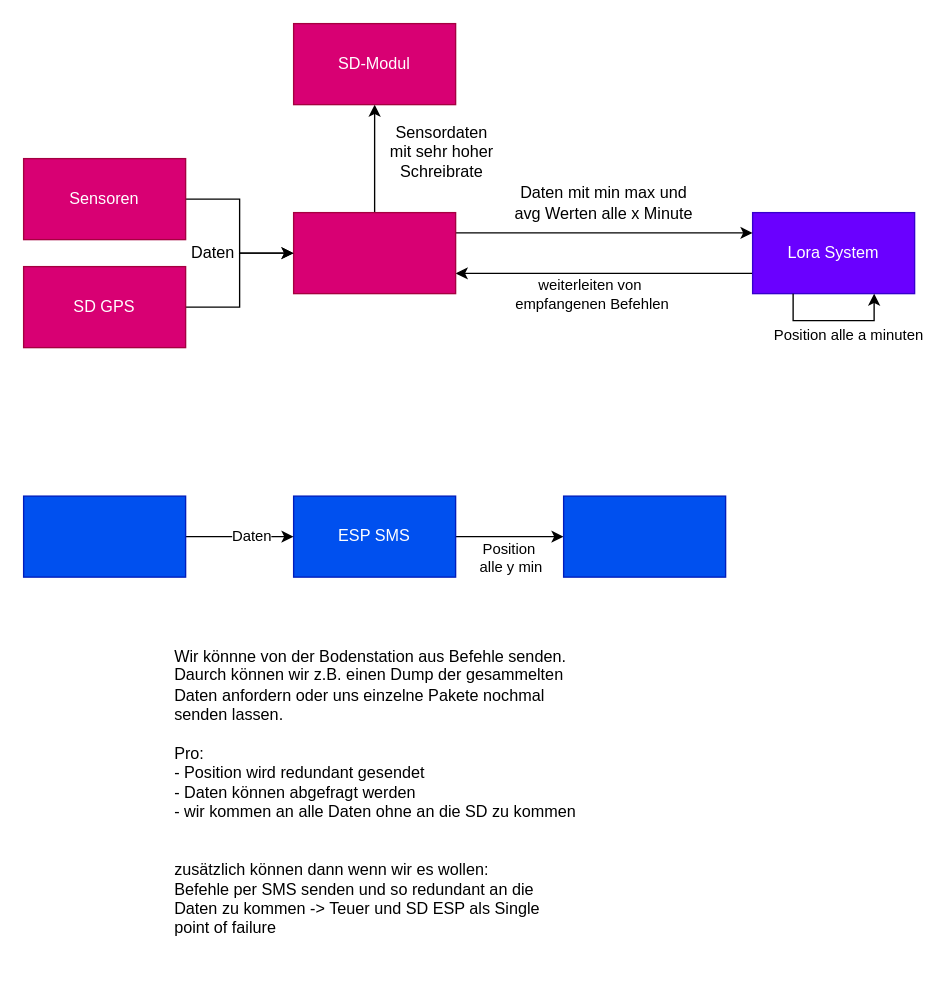
The diagram is 946 pixels wide and 981 high, and some of its shapes have lost their labels. The shapes that lost their labels are listed below. From the top down, each one's centre as x and y in pixels, then its label:
At (374,252): "SD ESP".
At (104,536): "SMS GPS".
At (644,536): "SMS Modul".
